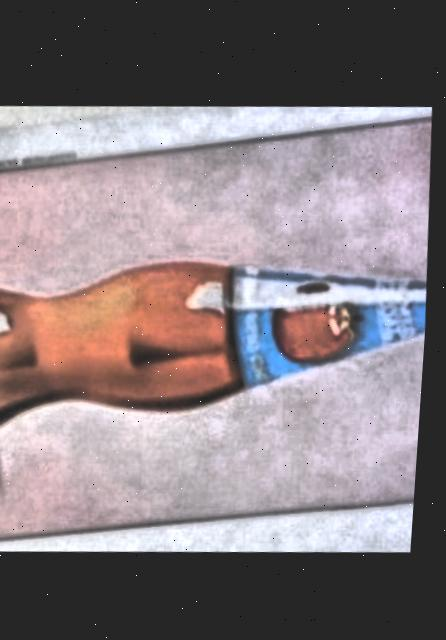La Botella: (0, 111, 433, 541)
